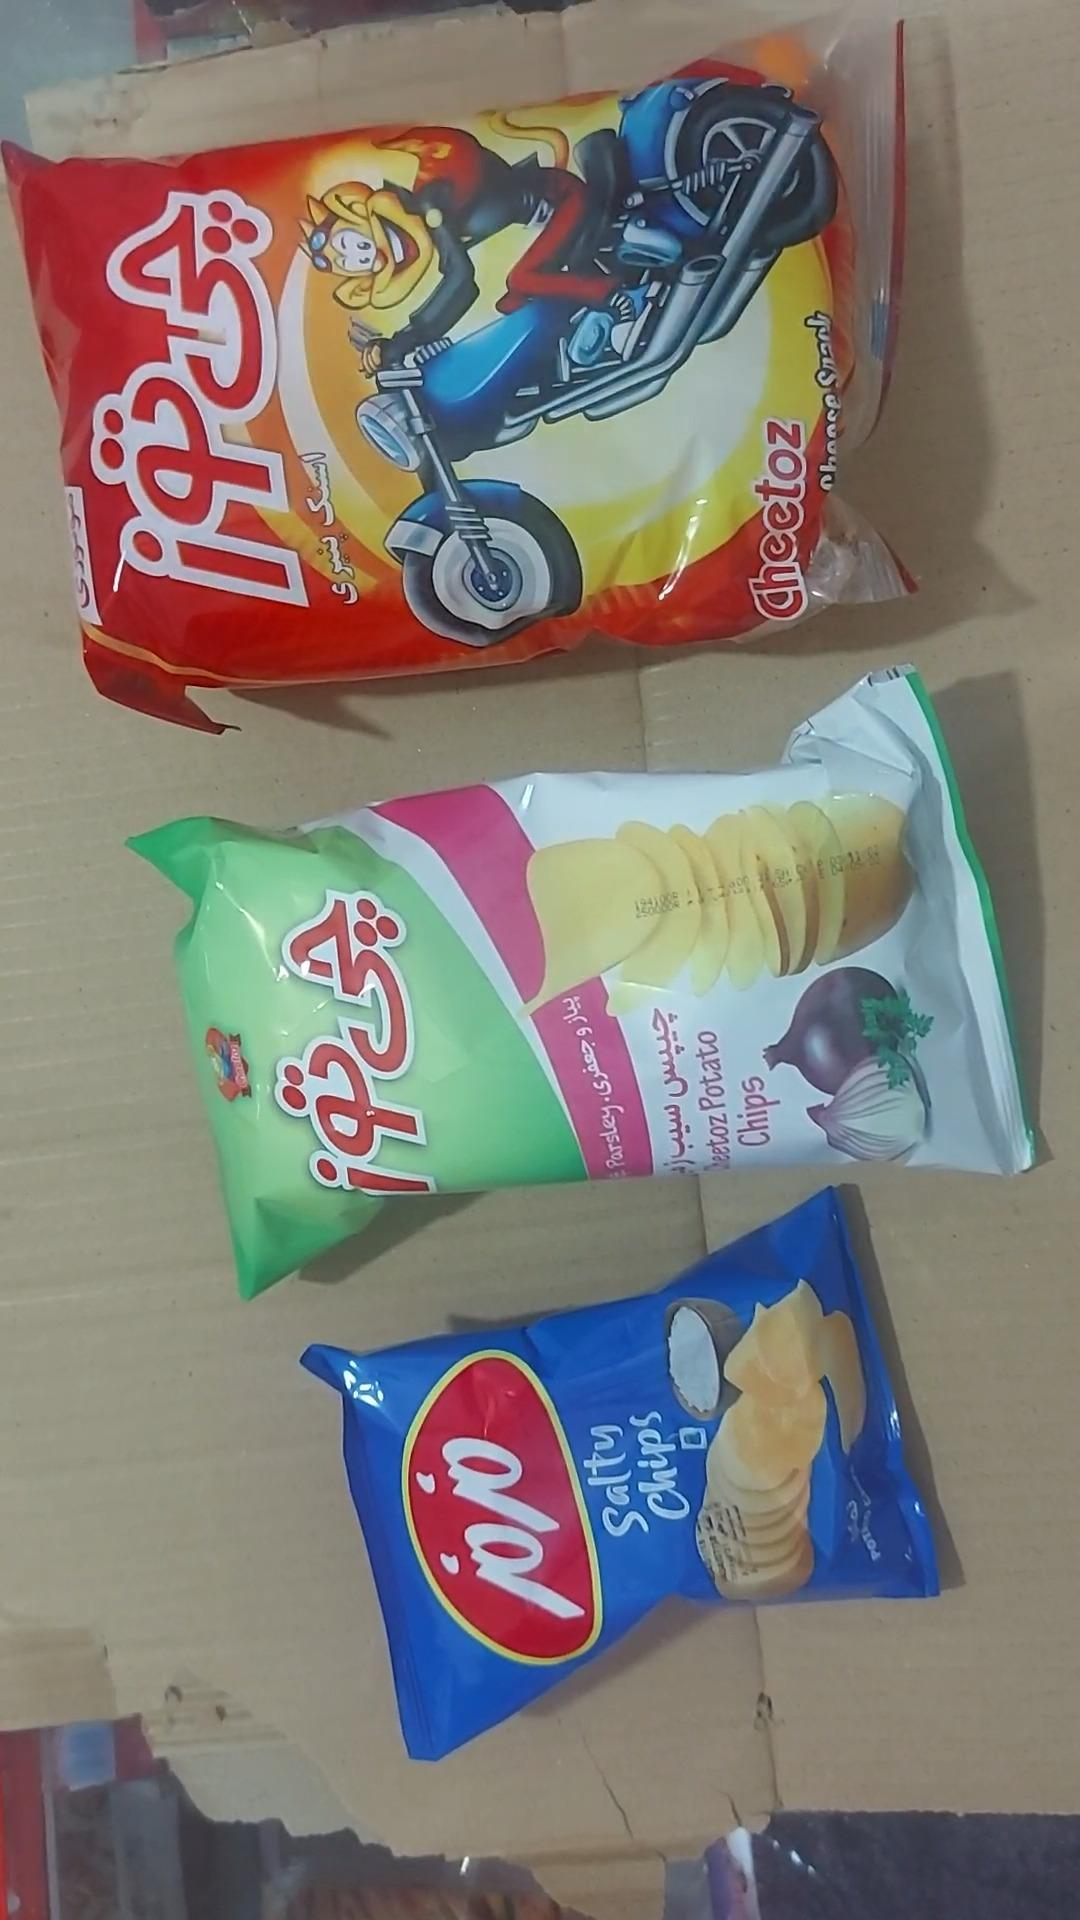Cheetoz onion and parsley chips: (127, 669, 1040, 1303)
Cheetoz snack 90g: (0, 13, 919, 740)
Maz Maz salty chips: (302, 1187, 944, 1766)
